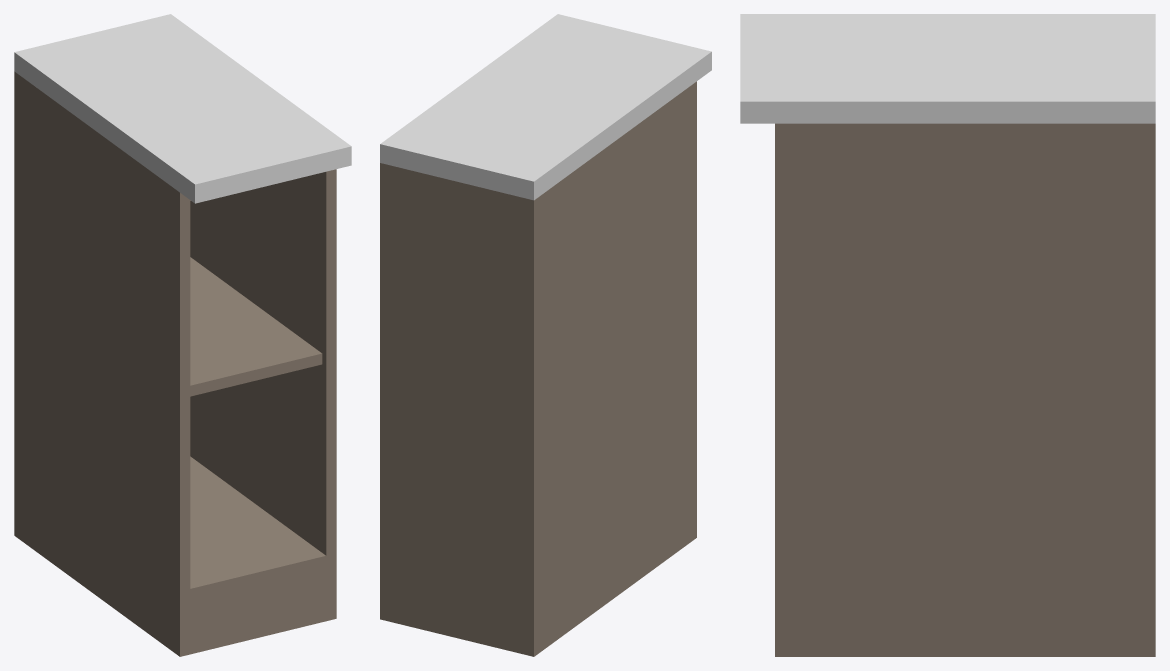
The model's file is Kitchen1_C5_04.fbx.
The picture shows the model from 3 angles, left to right: view 1: azimuth 30°, elevation 25°; view 2: azimuth 150°, elevation 25°; view 3: azimuth 270°, elevation 25°; orthographic projection. The views are drawn at different scales.
Parts seen in each view (by area): view 1: Kitchen1_C5_04; view 2: Kitchen1_C5_04; view 3: Kitchen1_C5_04.
Boxes of the visible parts, x1,y1,x2,y2 form: Kitchen1_C5_04: (14,14,351,656); Kitchen1_C5_04: (380,14,711,656); Kitchen1_C5_04: (740,14,1155,656).
Size of the model in its own units: 30 by 88.5 by 60.
